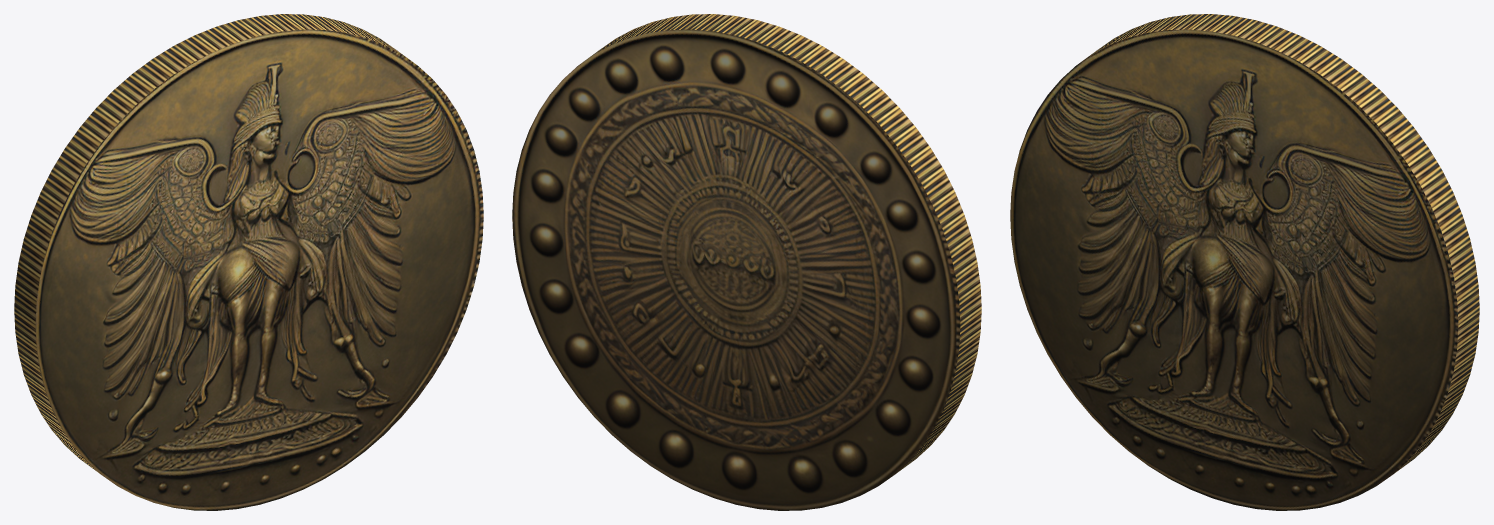
The model's file is ancient_coin_003.glb.
3 views of the same model, side by side, from view 1: azimuth 30°, elevation 25°; view 2: azimuth 150°, elevation 25°; view 3: azimuth 330°, elevation 25° (orthographic).
Parts seen in each view (by area): view 1: Cylinder.001_0; view 2: Cylinder.001_0; view 3: Cylinder.001_0.
Boxes of the visible parts, x1=… form: Cylinder.001_0: x1=14, y1=14, x2=483, y2=510; Cylinder.001_0: x1=512, y1=14, x2=981, y2=510; Cylinder.001_0: x1=1010, y1=14, x2=1479, y2=510.
Bounding box in the file's own units: 2.72 × 2.72 × 0.2246.
2 materials, 2 textured.
